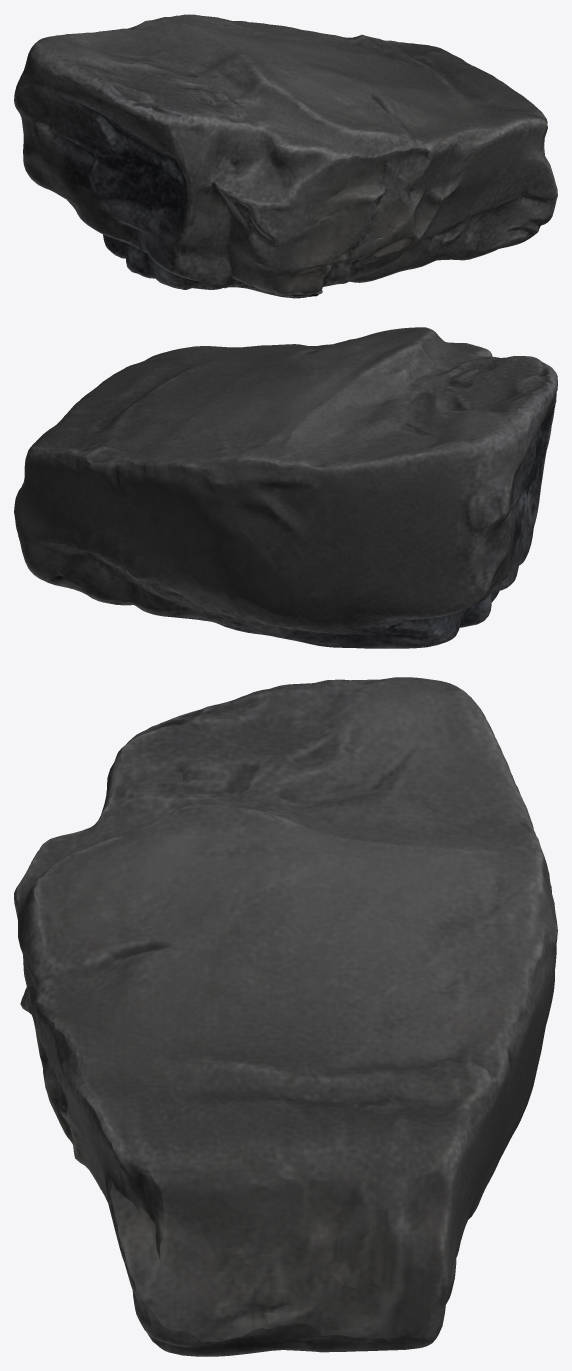
3 renders of one model, top to bottom at view 1: azimuth 30°, elevation 25°; view 2: azimuth 150°, elevation 25°; view 3: azimuth 270°, elevation 25°, orthographic. The views are drawn at different scales.
Visible parts, largest first — view 1: world; view 2: world; view 3: world.
Part boxes in pixels (<box>): world: <box>14,14,557,298</box>; world: <box>14,327,557,648</box>; world: <box>14,677,557,1356</box>.
Size of the model in its own units: 2.5 by 1.26 by 1.68.
1 material, 1 textured.
